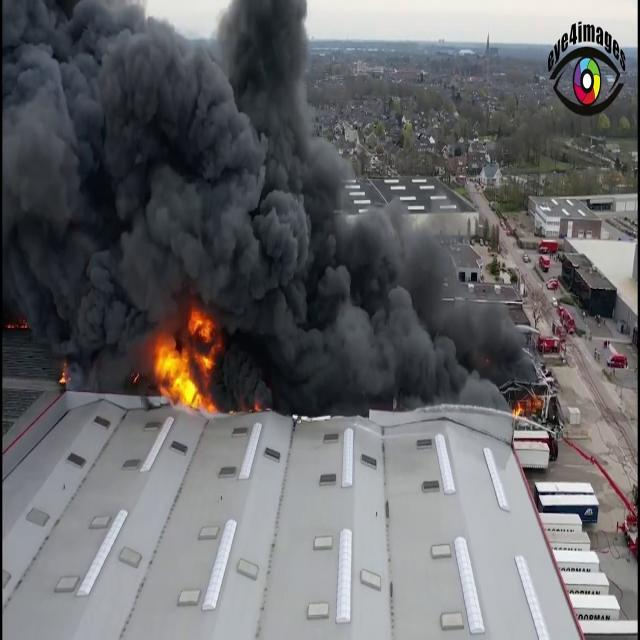Fire: (146, 310, 222, 410), (511, 386, 544, 419)
Smoke: (2, 0, 315, 381), (320, 208, 537, 434)
